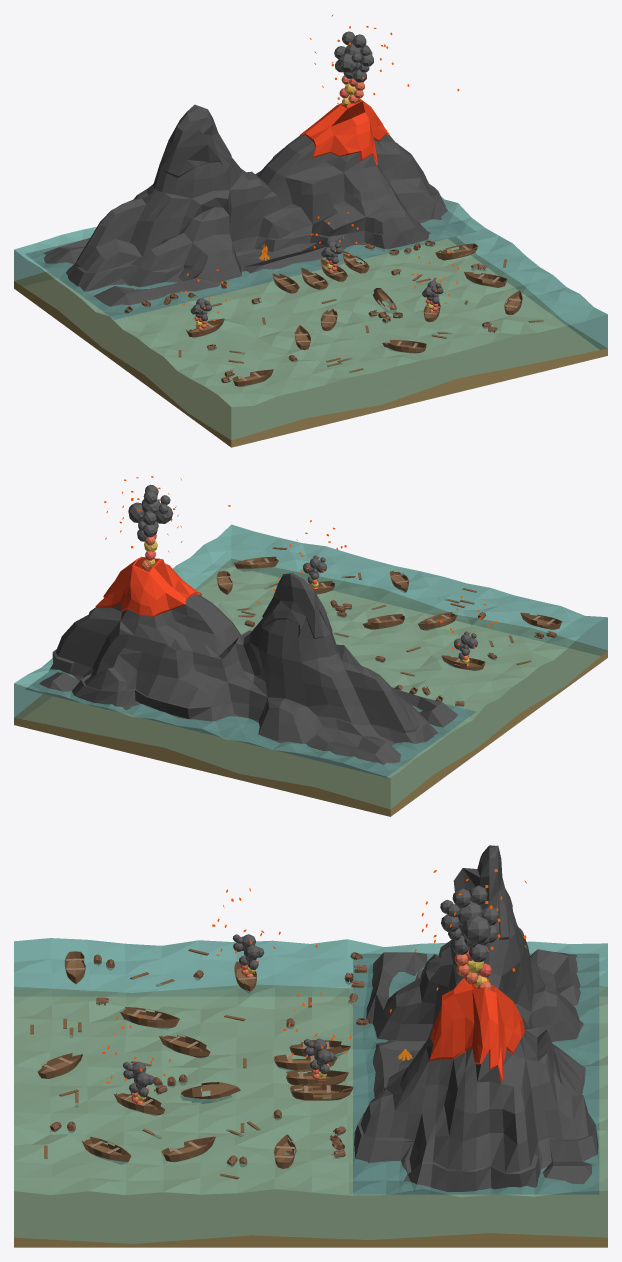
File: 01 Zombie_13.FBX
3 views of the same model, one above another, from view 1: azimuth 30°, elevation 25°; view 2: azimuth 150°, elevation 25°; view 3: azimuth 270°, elevation 25° (orthographic). The views are drawn at different scales.
Parts seen in each view (by area): view 1: Base, Mountain, Fire_1; view 2: Base, Mountain, Fire_1, Fire_4, Fire_2, Cube012, Cube013; view 3: Base, Mountain, Fire_1, Fire_2, Fire_4, Cube004, Fire_3, Cube014, Cube008, Cube012, Cube007, Cube013 (+6 smaller).
Part boxes in pixels (bbox=[...]): Base: bbox=[14, 196, 607, 447]; Mountain: bbox=[25, 98, 475, 319]; Fire_1: bbox=[310, 14, 459, 134]; Base: bbox=[14, 524, 607, 816]; Mountain: bbox=[25, 556, 475, 777]; Fire_1: bbox=[104, 476, 230, 570]; Fire_4: bbox=[289, 520, 346, 589]; Fire_2: bbox=[440, 596, 497, 666]; Cube012: bbox=[234, 556, 278, 571]; Cube013: bbox=[363, 614, 404, 629]; Base: bbox=[14, 938, 607, 1247]; Mountain: bbox=[353, 845, 598, 1194]; Fire_1: bbox=[315, 869, 526, 1012]; Fire_2: bbox=[212, 888, 280, 977]; Fire_4: bbox=[102, 1015, 170, 1104]; Cube004: bbox=[289, 1083, 353, 1100]; Fire_3: bbox=[283, 992, 351, 1080]; Cube014: bbox=[180, 1082, 240, 1103]; Cube008: bbox=[120, 1007, 179, 1029]; Cube012: bbox=[82, 1136, 131, 1164]; Cube007: bbox=[161, 1136, 215, 1162]; Cube013: bbox=[159, 1033, 210, 1058].
Size of the model in its own units: 10000 by 5727 by 10000.
